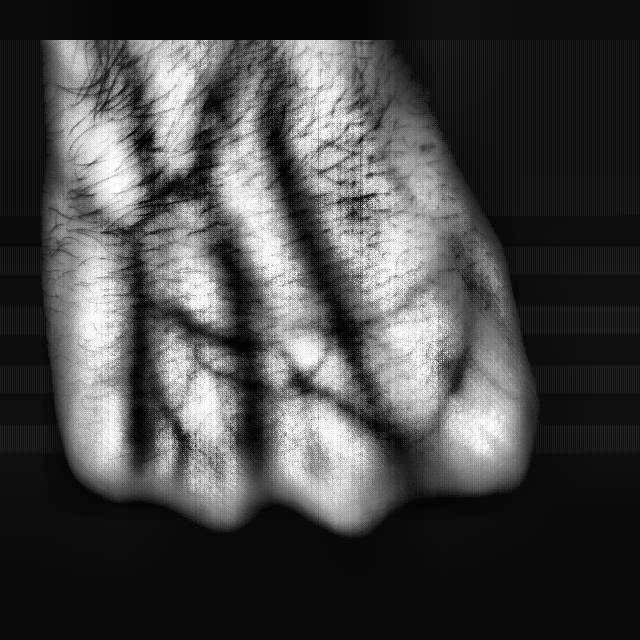Vein: (252, 105, 353, 322)
